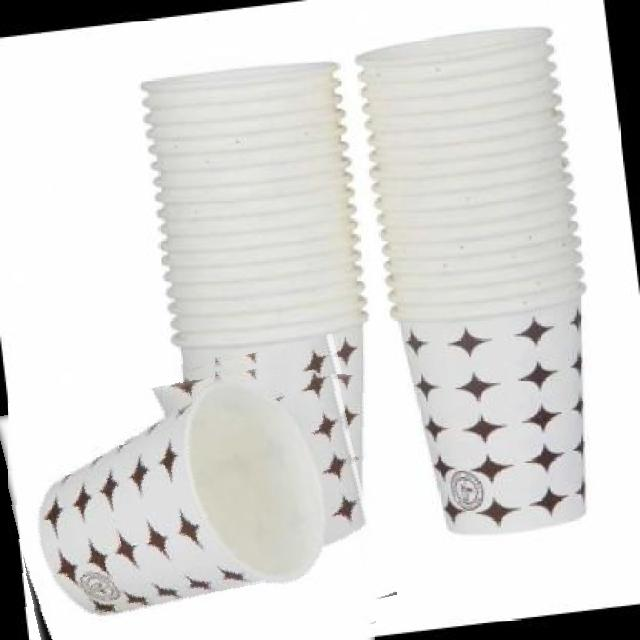non-biodegradable: (8, 352, 383, 640)
